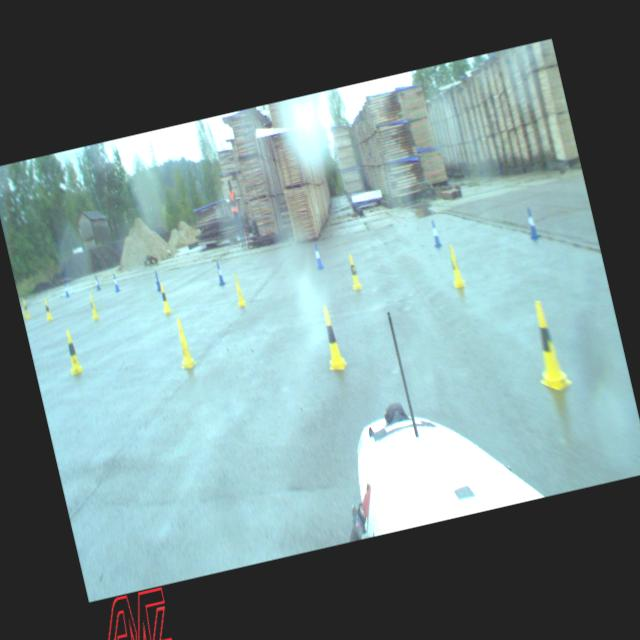blue_cone: (524, 207, 540, 240), (428, 219, 442, 248), (311, 243, 324, 270), (214, 260, 225, 284), (110, 272, 120, 292), (152, 269, 161, 290), (62, 282, 70, 298), (93, 274, 100, 290)
yellow_cone: (522, 297, 573, 393), (316, 304, 348, 372), (169, 315, 197, 371), (61, 328, 83, 375), (444, 244, 466, 288), (344, 253, 362, 290), (230, 272, 247, 306), (157, 282, 172, 314), (87, 294, 99, 320), (42, 297, 53, 320), (21, 298, 31, 320)
